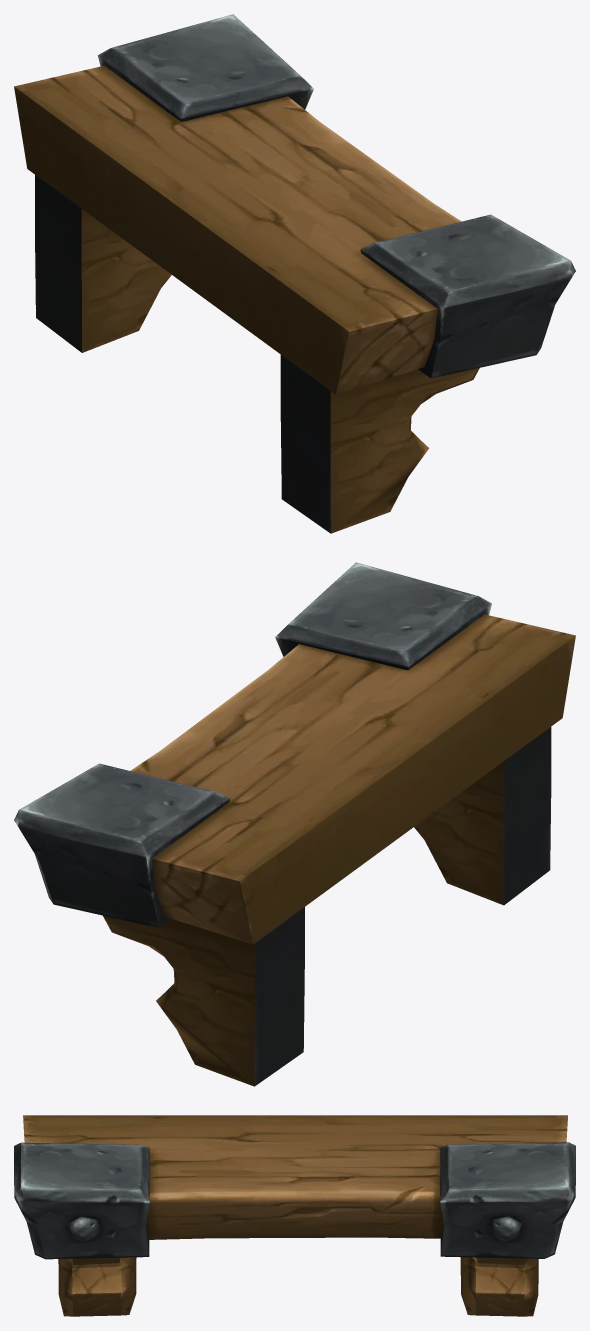
3 views of the same model, one above another, from view 1: azimuth 30°, elevation 25°; view 2: azimuth 150°, elevation 25°; view 3: azimuth 270°, elevation 25° (orthographic). The views are drawn at different scales.
Size of the model in its own units: 0.9146 by 0.9097 by 2.4.
1 material, 1 textured.
